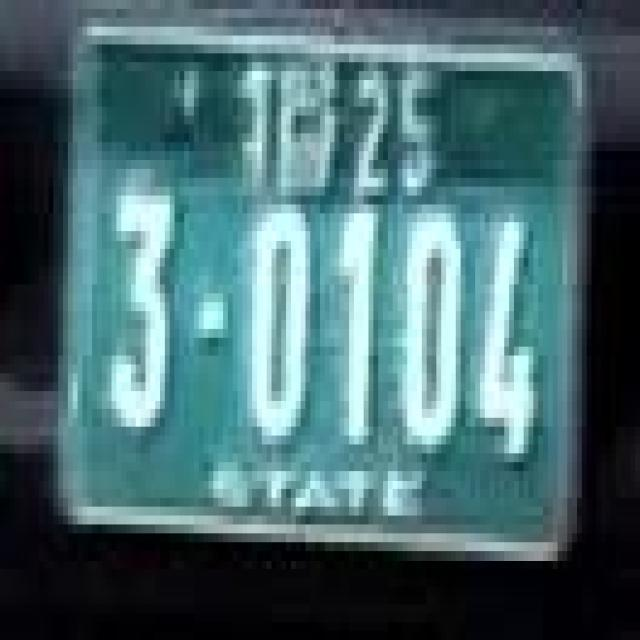State: (238, 54, 336, 200)
